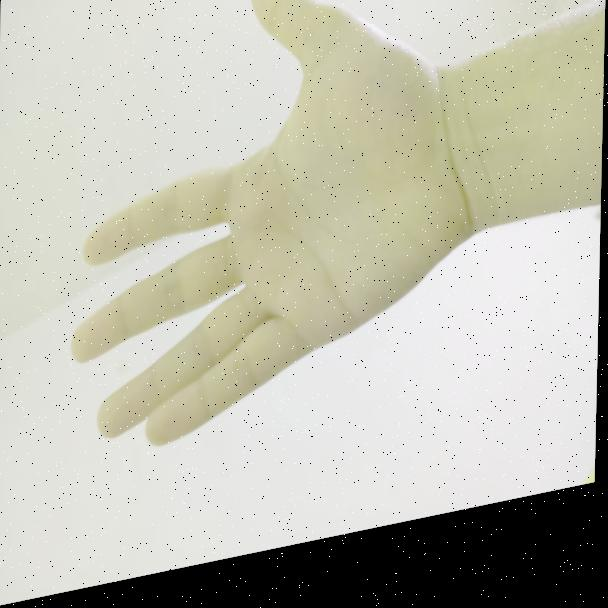five: (70, 0, 458, 480)
